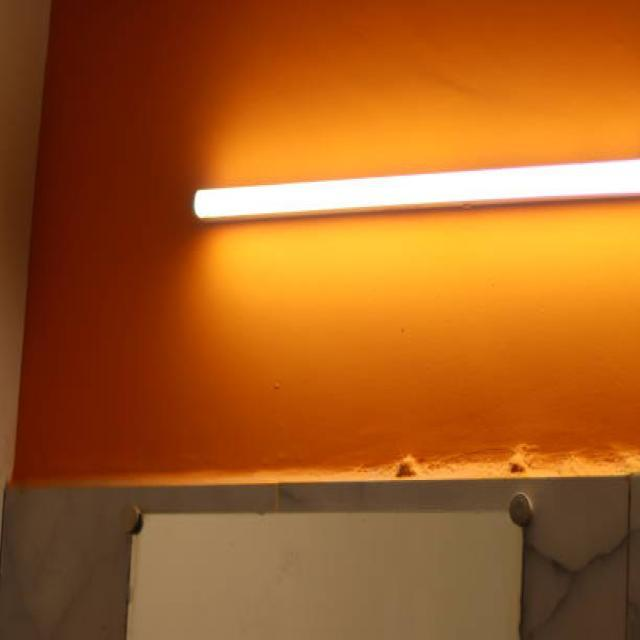tubelight_on: (190, 156, 640, 232)
